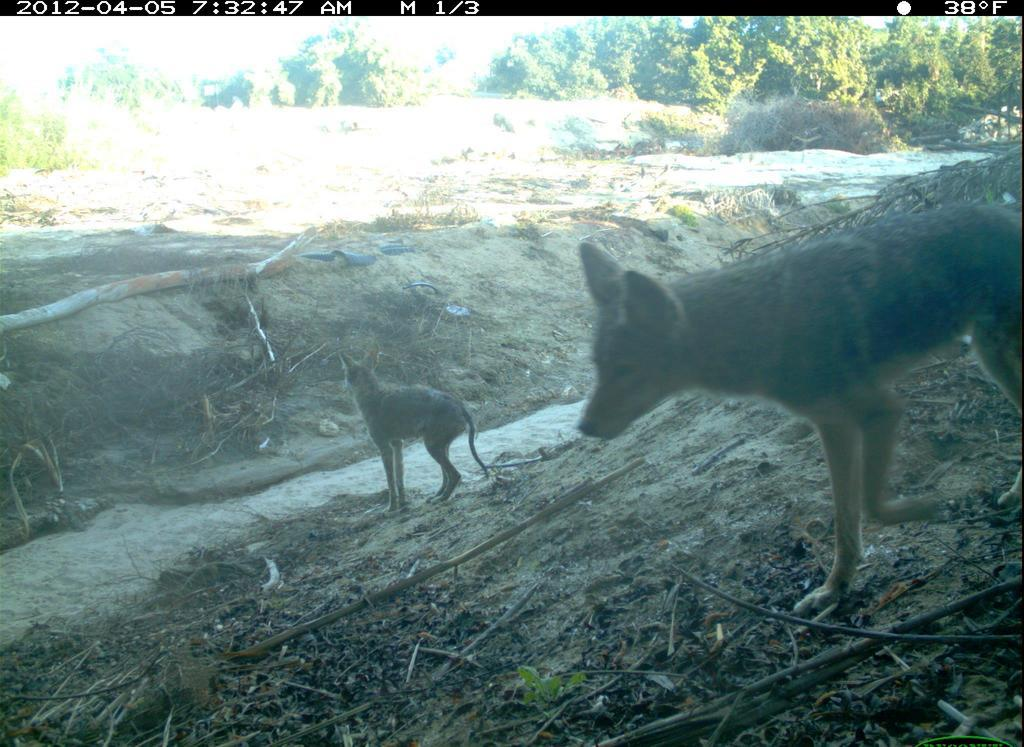coyote: (578, 198, 1023, 617), (333, 338, 498, 518)
